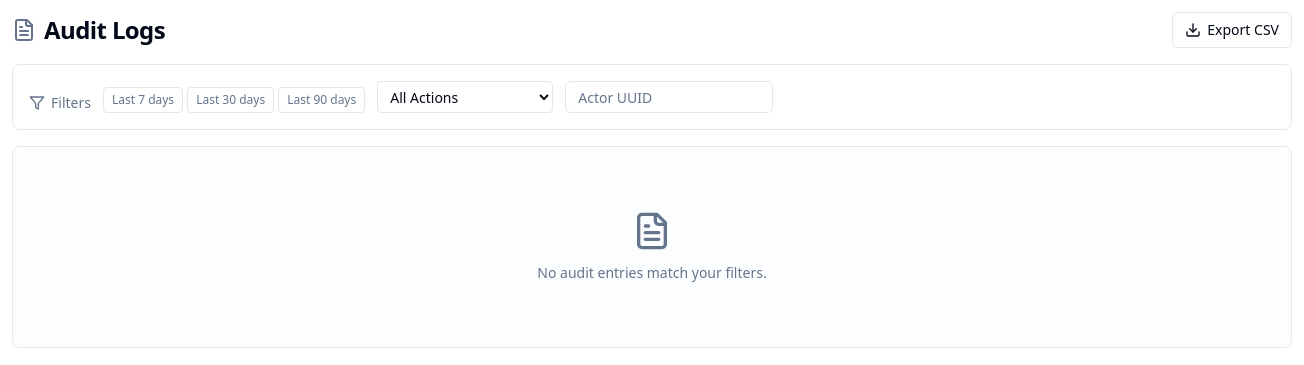
Scenario: Export CSV (AC6) › shows loading on export button while exporting
This screenshot has width=1304, height=365.
Click the button with test id "export-btn".
click(1232, 30)  # box [1172,12,1292,48]
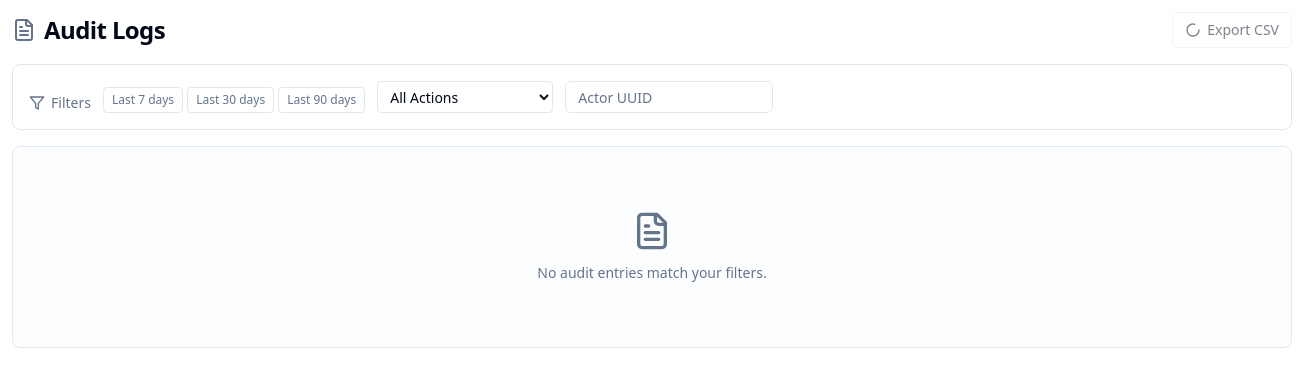
Expected: the button with test id "export-btn" is disabled, [1172,12,1292,48]
